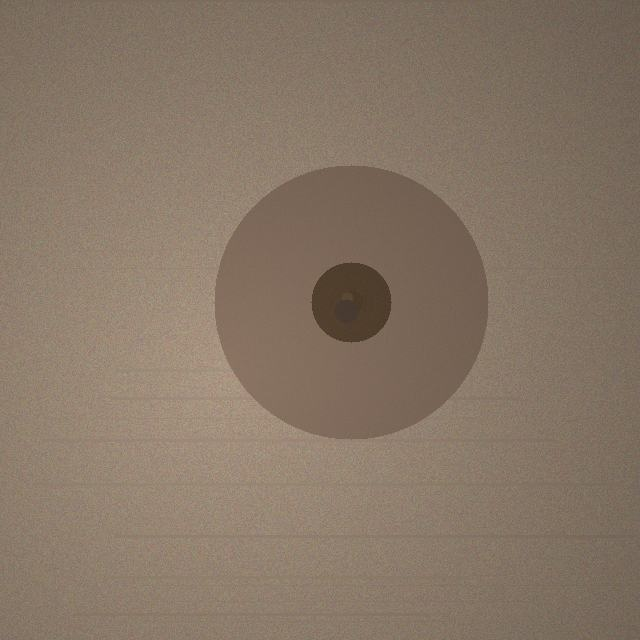cold_weld: (214, 165, 488, 439)
